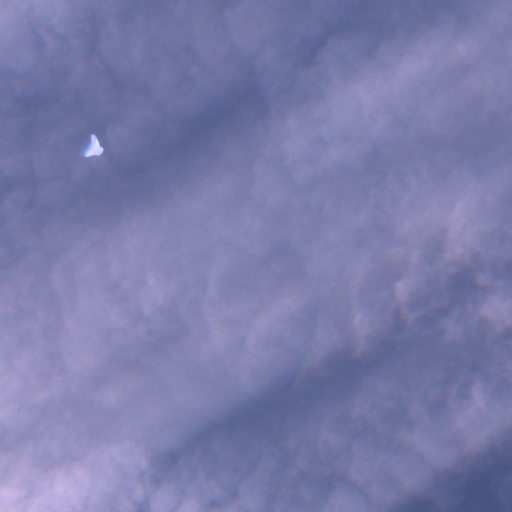Iceberg: (84, 134, 103, 157)
